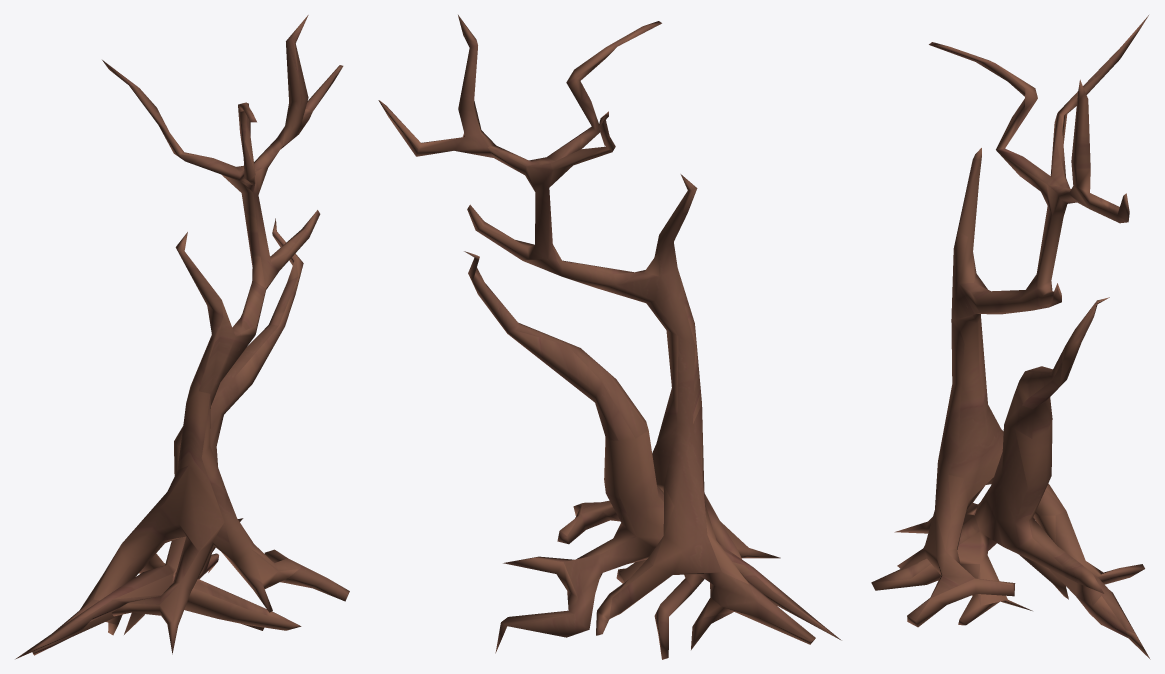
The model's file is Tree3_Collider.fbx.
3 views of the same model, side by side, from view 1: azimuth 30°, elevation 25°; view 2: azimuth 150°, elevation 25°; view 3: azimuth 270°, elevation 25° (orthographic). The views are drawn at different scales.
Visible parts, largest first — view 1: Tree3_Collider; view 2: Tree3_Collider; view 3: Tree3_Collider.
Part boxes in pixels (x1,y1,x2,y2): Tree3_Collider: (15, 15, 349, 659); Tree3_Collider: (378, 15, 841, 659); Tree3_Collider: (871, 15, 1150, 659).
Bounding box in the file's own units: 222 × 314 × 128.
Materials: 1 (1 with a texture image).
